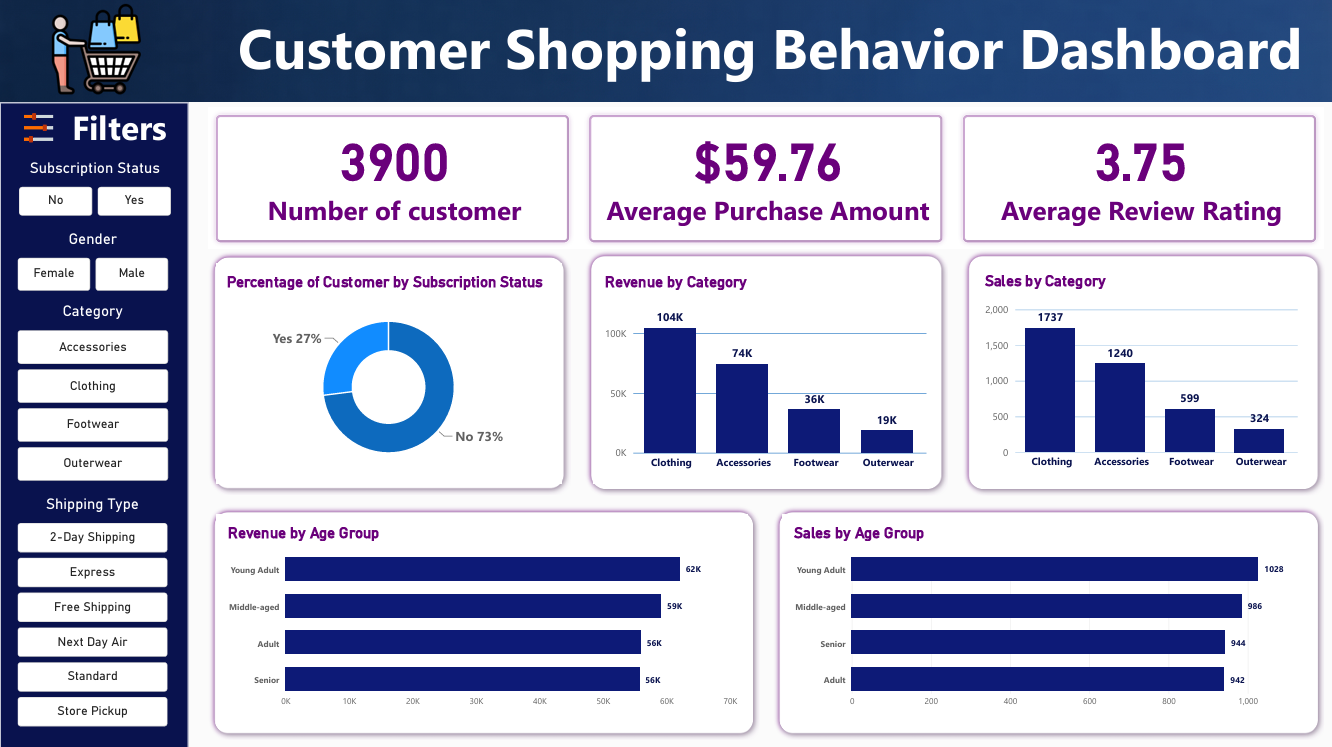

This screenshot's page, from the dashboard's own definition file:
{"tool":"powerbi","page":{"name":"Dashboard","canvas":[1920,1080],"ordinal":0},"visuals":[{"type":"image","box":[0,0,1920.4,149.5],"z":0},{"type":"cardVisual","fields":{"Data":["public customer.Number of customer","public customer.Average Purchase Amount","public customer.Average Review Rating"]},"box":[300,158,1604,204],"z":1000},{"type":"shape","box":[300,730,792,336],"z":2000},{"type":"shape","box":[300,364,520,350],"z":3000},{"type":"textbox","box":[312,16,1592,124],"z":4000},{"type":"donutChart","title":"Percentage of Customer by Subscription Status","fields":{"Category":["public customer.subscription_status"],"Y":["CountNonNull(public customer.customer_id)"]},"box":[311.3,381.8,495.8,316.7],"z":5000},{"type":"shape","box":[841.5,361.9,521.2,352.9],"z":6000},{"type":"shape","box":[1112,730,792,336],"z":7000},{"type":"shape","box":[1384.4,361.9,519.4,352.9],"z":8000},{"type":"clusteredColumnChart","title":"Revenue by Category","fields":{"Category":["public customer.category"],"Y":["Sum(public customer.purchase_amount)"]},"box":[854.2,381.8,494,316.7],"z":9000},{"type":"clusteredColumnChart","title":"Sales by Category","fields":{"Category":["public customer.category"],"Y":["CountNonNull(public customer.customer_id)"]},"box":[1400,380,482,318],"z":10000},{"type":"shape","box":[0,150.2,271.7,930.1],"z":11000},{"type":"advancedSlicerVisual","fields":{"Values":["public customer.subscription_status"]},"box":[28,232,218,84],"z":12000},{"type":"advancedSlicerVisual","fields":{"Values":["public customer.gender"]},"box":[26,334,216,90],"z":13000},{"type":"advancedSlicerVisual","fields":{"Values":["public customer.category"]},"box":[26,438,216,260],"z":14000},{"type":"clusteredBarChart","title":"Revenue by Age Group","fields":{"Category":["public customer.age_group"],"Y":["Sum(public customer.purchase_amount)"]},"box":[312,742,764,298],"z":15000},{"type":"clusteredBarChart","title":"Sales by Age Group","fields":{"Category":["public customer.age_group"],"Y":["CountNonNull(public customer.customer_id)"]},"box":[1126,742,756,298],"z":16000},{"type":"image","box":[56,8,164.7,132.1],"z":17000},{"type":"textbox","box":[98,152,148,70],"z":18000},{"type":"image","box":[28,158,56,58],"z":19000},{"type":"advancedSlicerVisual","fields":{"Values":["public customer.shipping_type"]},"box":[26,714.8,215.1,338.3],"z":20000}]}

Visuals, with their boxes in screenshot pixels (x1, y1, x2, y2), scaled from the page's 1920x1080 canvas onto the 1332x747 screenshot:
image: 0 0 1331 103
cardVisual - public customer.Number of customer x public customer.Average Purchase Amount: 208 109 1321 250
shape: 208 505 758 737
shape: 208 252 569 494
textbox: 216 11 1321 97
"Percentage of Customer by Subscription Status" donutChart: 216 264 560 483
shape: 584 250 945 494
shape: 771 505 1321 737
shape: 960 250 1321 494
"Revenue by Category" clusteredColumnChart: 593 264 935 483
"Sales by Category" clusteredColumnChart: 971 263 1306 483
shape: 0 104 188 746
advancedSlicerVisual - public customer.subscription_status: 19 160 171 219
advancedSlicerVisual - public customer.gender: 18 231 168 293
advancedSlicerVisual - public customer.category: 18 303 168 483
"Revenue by Age Group" clusteredBarChart: 216 513 746 719
"Sales by Age Group" clusteredBarChart: 781 513 1306 719
image: 39 6 153 97
textbox: 68 105 171 154
image: 19 109 58 149
advancedSlicerVisual - public customer.shipping_type: 18 494 167 728
